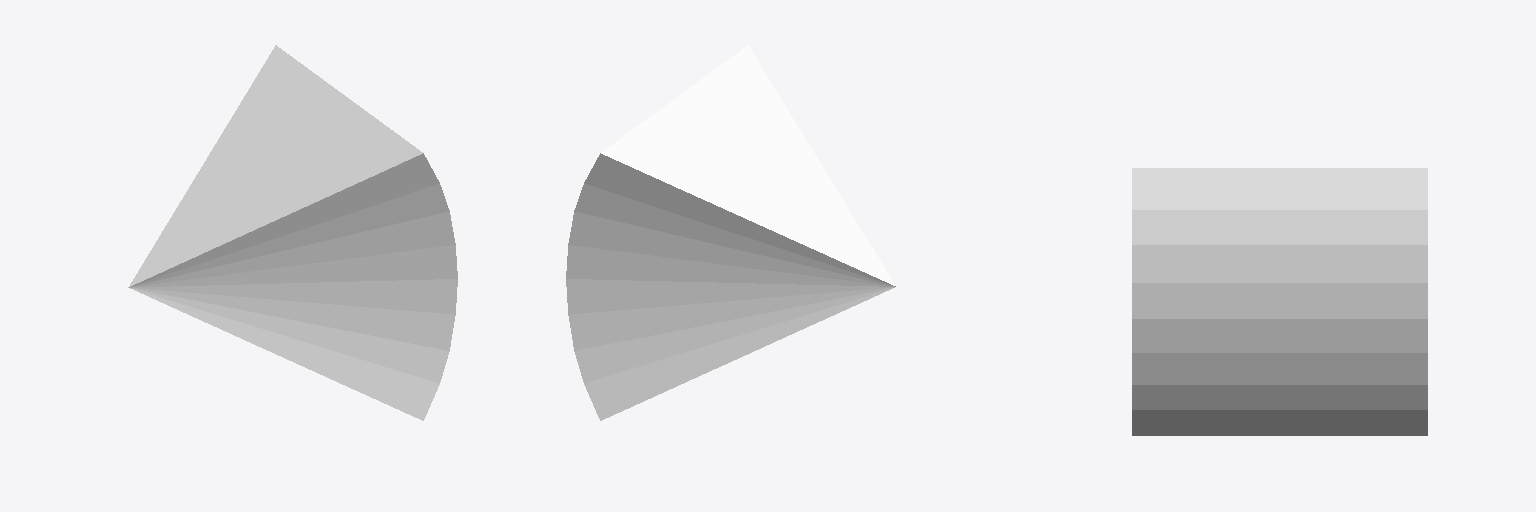
The model's file is Sensor60.obj.
3 views of the same model, side by side, from view 1: azimuth 30°, elevation 25°; view 2: azimuth 150°, elevation 25°; view 3: azimuth 270°, elevation 25° (orthographic).
Visible parts, largest first — view 1: 60deg; view 2: 60deg; view 3: 60deg.
Boxes of the visible parts, <box> form: 60deg: <box>128,45,457,420</box>; 60deg: <box>566,45,895,420</box>; 60deg: <box>1132,168,1427,435</box>.
Bounding box in the file's own units: 1 × 1 × 1.